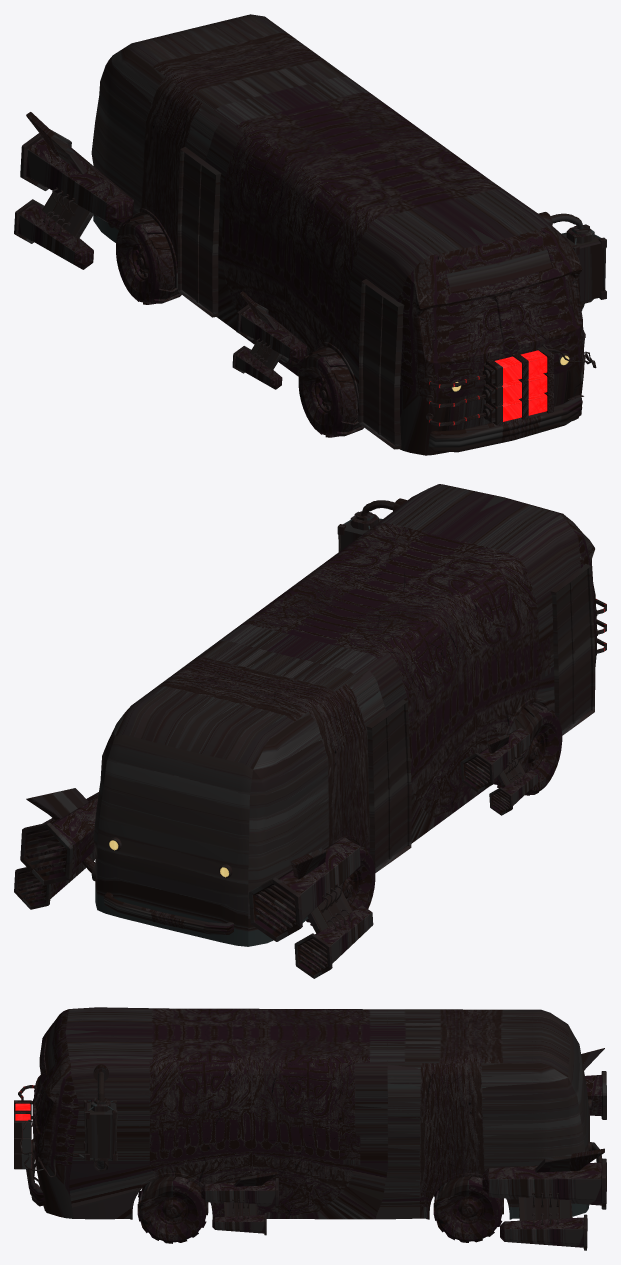
3 views of the same model, one above another, from view 1: azimuth 30°, elevation 25°; view 2: azimuth 150°, elevation 25°; view 3: azimuth 270°, elevation 25° (orthographic). The views are drawn at different scales.
Parts seen in each view (by area): view 1: polySurface103, polySurface289, object 46, polySurface114, polySurface290, polySurface288, loftedSurface1, pPlane1, polySurface279, pCube69, pCube82, pCube83; view 2: polySurface103, polySurface289, polySurface290, polySurface114, object 46, polySurface288, loftedSurface8, polySurface279; view 3: polySurface103, polySurface289, object 45, polySurface288, polySurface279, pCube69, pPlane3, polySurface285, loftedSurface1, pPlane1.
Part boxes in pixels (<box>): polySurface103: <box>91,14,584,455</box>; polySurface289: <box>14,112,133,269</box>; object 46: <box>116,214,364,437</box>; polySurface114: <box>359,279,404,449</box>; polySurface290: <box>177,147,221,317</box>; polySurface288: <box>232,291,307,389</box>; loftedSurface1: <box>428,395,582,452</box>; pPlane1: <box>446,249,552,292</box>; polySurface279: <box>562,225,603,304</box>; pCube69: <box>482,347,553,386</box>; pCube82: <box>482,373,553,406</box>; pCube83: <box>482,392,553,425</box>; polySurface103: <box>93,484,596,946</box>; polySurface289: <box>14,788,373,978</box>; polySurface290: <box>366,699,411,872</box>; polySurface114: <box>550,563,595,735</box>; object 46: <box>306,702,562,925</box>; polySurface288: <box>461,727,538,815</box>; loftedSurface8: <box>103,892,233,934</box>; polySurface279: <box>340,511,381,550</box>; polySurface103: <box>32,1007,589,1219</box>; polySurface289: <box>482,1048,606,1250</box>; object 45: <box>137,1176,503,1243</box>; polySurface288: <box>201,1172,278,1235</box>; polySurface279: <box>85,1097,116,1160</box>; pCube69: <box>14,1100,31,1137</box>; pPlane3: <box>340,1135,360,1164</box>; polySurface285: <box>83,1100,117,1161</box>; loftedSurface1: <box>26,1139,45,1206</box>; pPlane1: <box>44,1025,55,1074</box>.
Size of the model in its own units: 608 by 412 by 1243.
